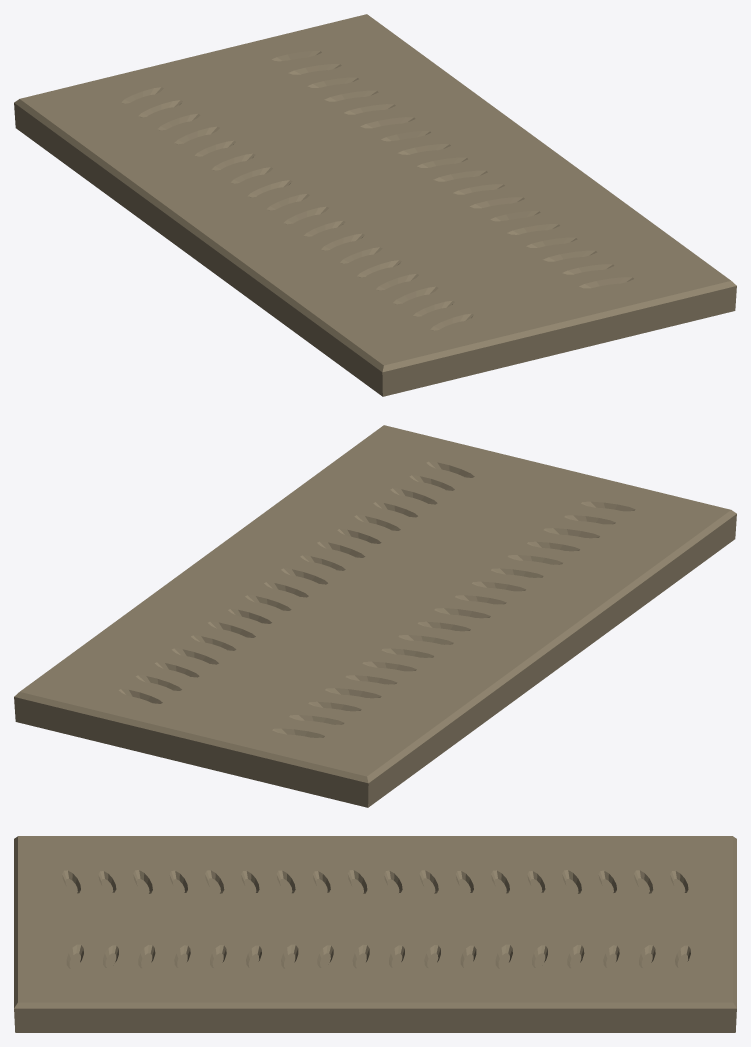
The picture shows the model from 3 angles, top to bottom: view 1: azimuth 30°, elevation 25°; view 2: azimuth 150°, elevation 25°; view 3: azimuth 270°, elevation 25°; orthographic projection.
Visible parts, largest first — view 1: diplichnites-display-slab; view 2: diplichnites-display-slab; view 3: diplichnites-display-slab.
Boxes of the visible parts, bbox=[...] form: diplichnites-display-slab: bbox=[14, 14, 736, 396]; diplichnites-display-slab: bbox=[14, 425, 736, 807]; diplichnites-display-slab: bbox=[14, 836, 736, 1032].
Bounding box in the file's own units: 0.1 × 0.008 × 0.18.
